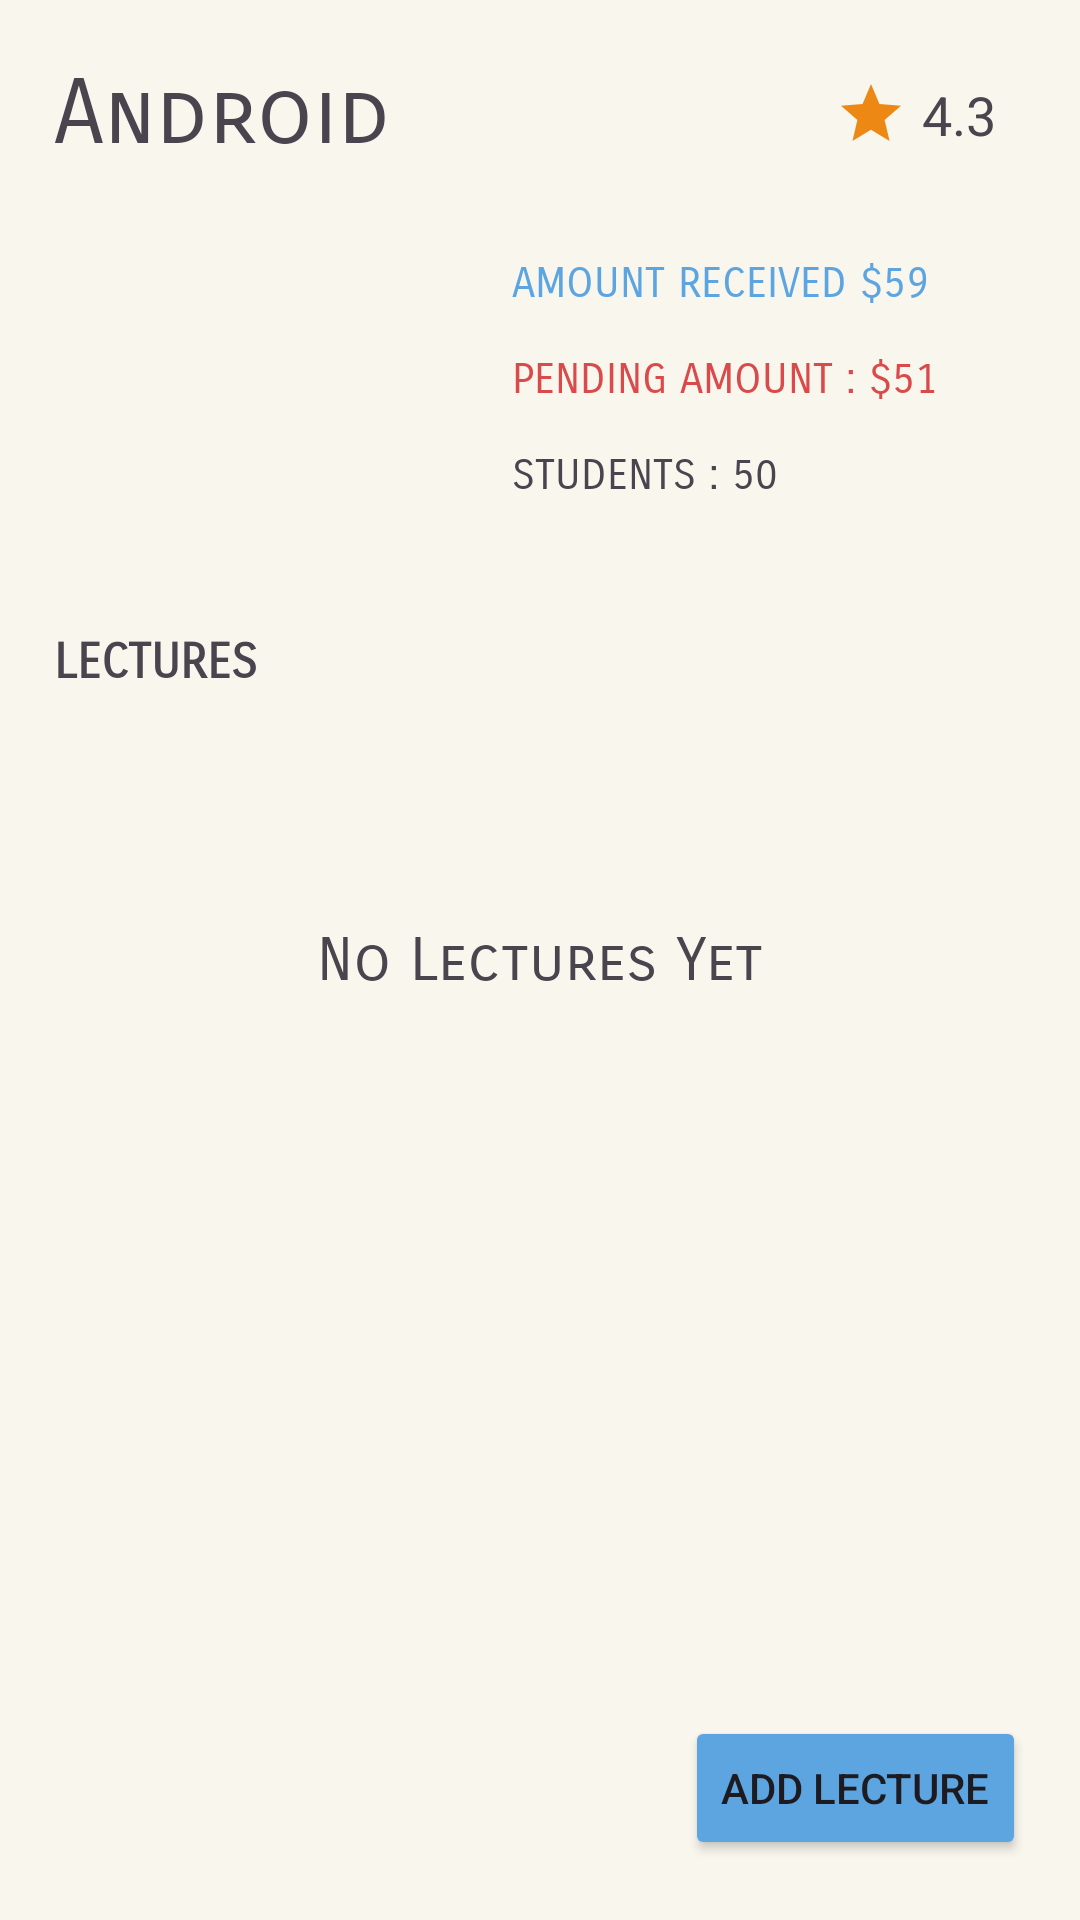

Named icons in this screenshot (1080 × 1920) and their bounding boxes, (x1, y1, x2, y2):
star: (841, 84, 901, 141)
